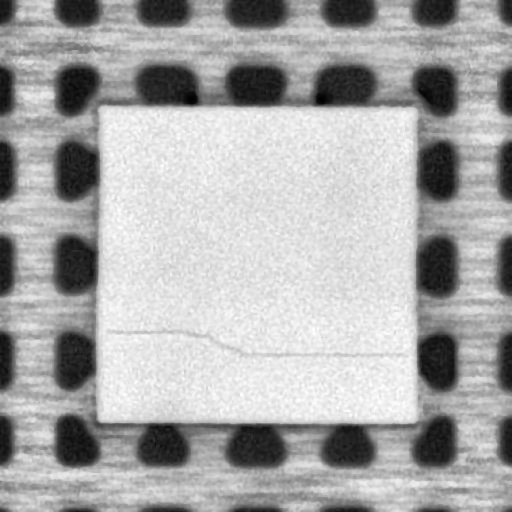DIE_CRACK: (104, 324, 409, 362)
